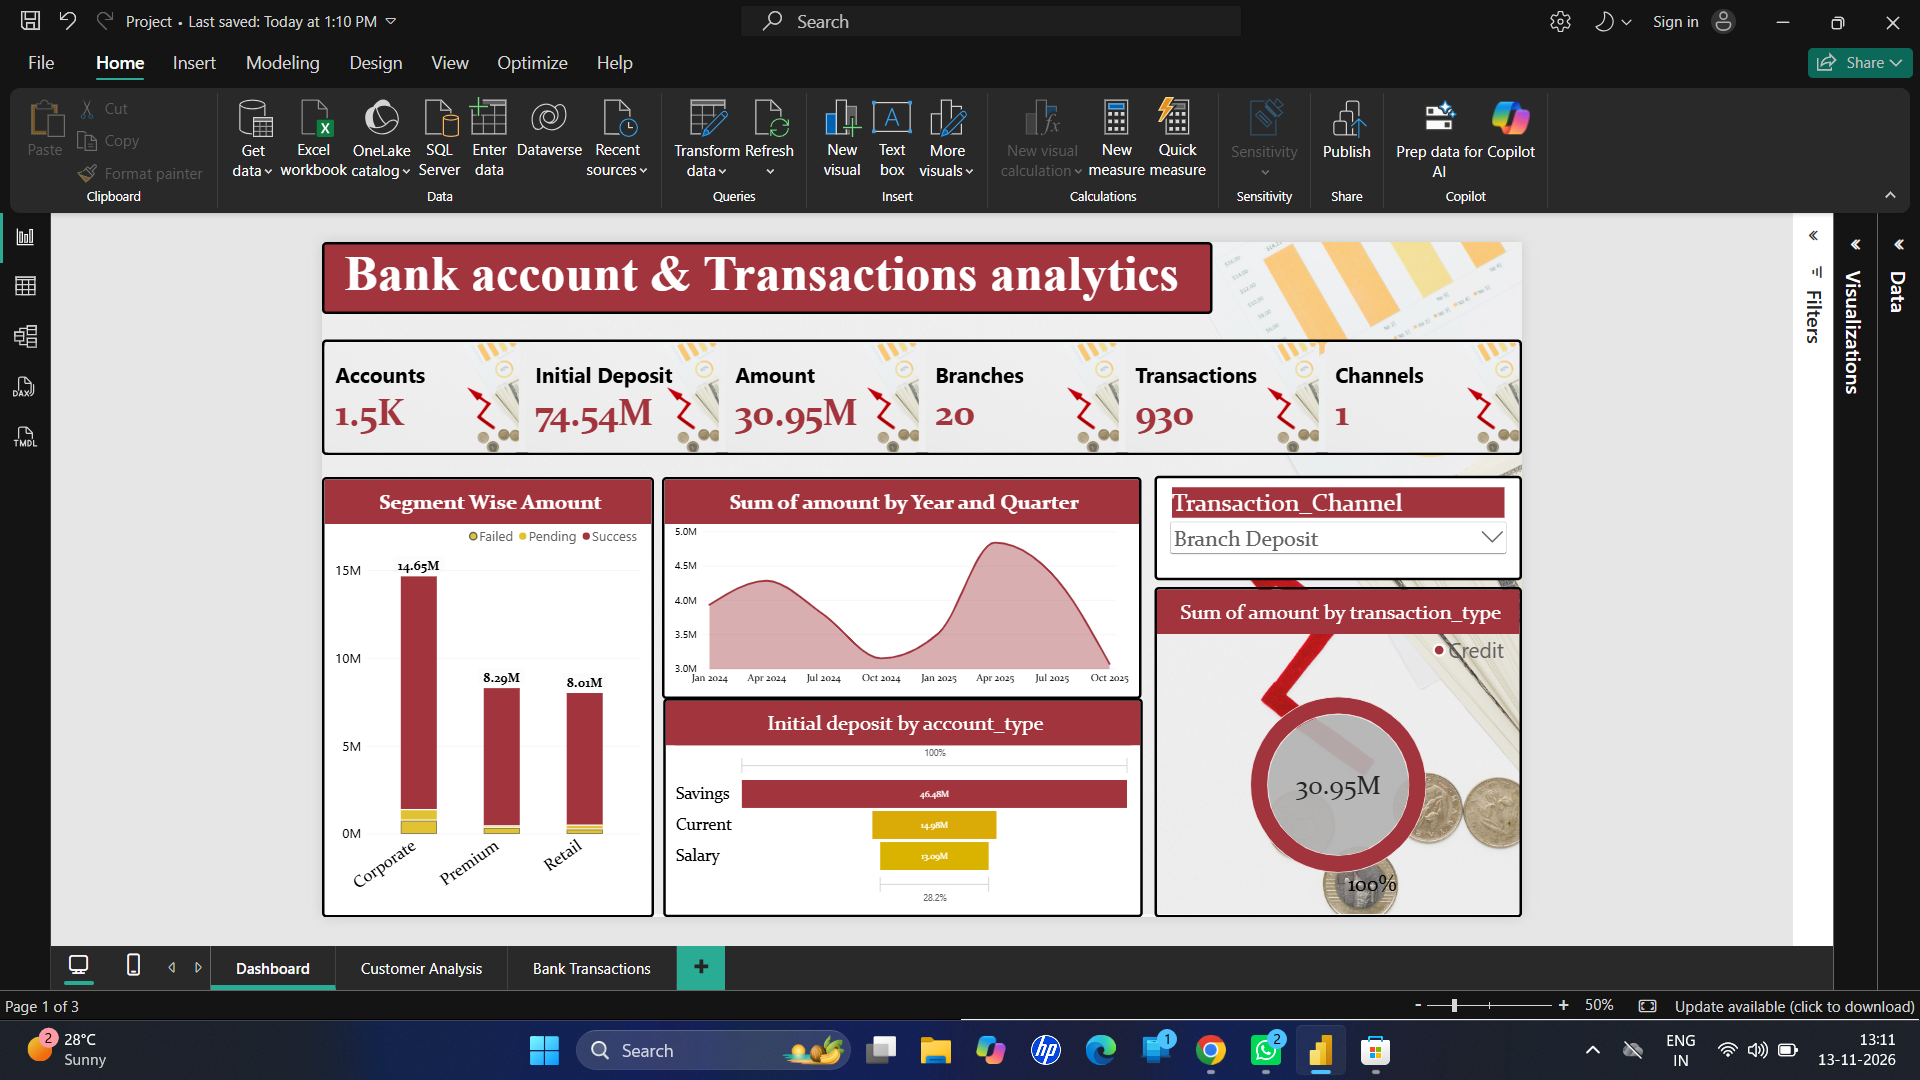

Layout of this report page (visuals, bound fields, positions):
{"tool":"powerbi","page":{"name":"Dashboard","canvas":[1920,1080],"ordinal":0},"visuals":[{"type":"textbox","box":[0,0,1425,115],"z":0},{"type":"cardVisual","fields":{"Data":["Count(accounts.account_id)","Sum(accounts.initial_deposit)","Sum(bank.amount)","Count(bank.branch_name)","Count(bank.transaction_id)","Count(bank.transaction_channel)"]},"box":[0,155,1920,185],"z":1000},{"type":"columnChart","title":"Segment Wise Amount","fields":{"Category":["accounts.customer_segment"],"Series":["bank.transaction_status"],"Y":["Sum(bank.amount)"]},"box":[0,375,531,705],"z":2000},{"type":"lineChart","fields":{"Category":["bank.transaction_date.Variation.Date Hierarchy.Year","bank.transaction_date.Variation.Date Hierarchy.Quarter"],"Y":["Sum(bank.amount)"]},"box":[544,375,767,355],"z":3000},{"type":"funnel","title":"Initial deposit by account_type","fields":{"Category":["accounts.account_type"],"Y":["Sum(accounts.initial_deposit)"]},"box":[545,730,767,350],"z":4000},{"type":"donutChart","fields":{"Category":["bank.transaction_type"],"Y":["Sum(bank.amount)"]},"box":[1331.2,552.3,588.1,528.5],"z":5000},{"type":"slicer","fields":{"Values":["bank.transaction_channel"]},"box":[1331.2,373.5,588.1,166.9],"z":5001}]}

Visuals, with their boxes on the page's 1920x1080 design canvas (x1, y1, x2, y2). These are canvas units, not pixel positions in the 1920x1080 screenshot, which may show the page scaled, cropped or inside an application window:
textbox: [0, 0, 1425, 115]
cardVisual - Count(accounts.account_id) x Sum(accounts.initial_deposit): [0, 155, 1920, 340]
"Segment Wise Amount" columnChart: [0, 375, 531, 1080]
lineChart - bank.transaction_date.Variation.Date Hierarchy.Year x bank.transaction_date.Variation.Date Hierarchy.Quarter: [544, 375, 1311, 730]
"Initial deposit by account_type" funnel: [545, 730, 1312, 1080]
donutChart - bank.transaction_type x Sum(bank.amount): [1331, 552, 1919, 1081]
slicer - bank.transaction_channel: [1331, 374, 1919, 540]
